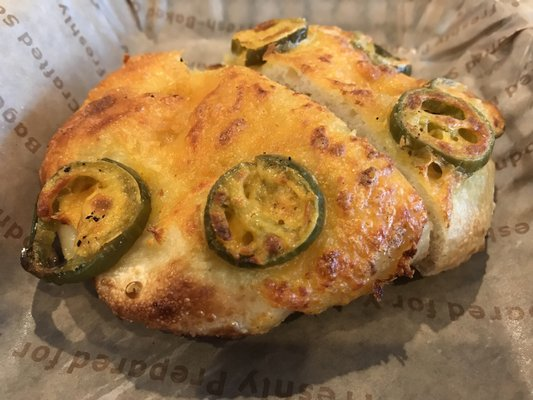sandwich: (27, 50, 456, 342)
